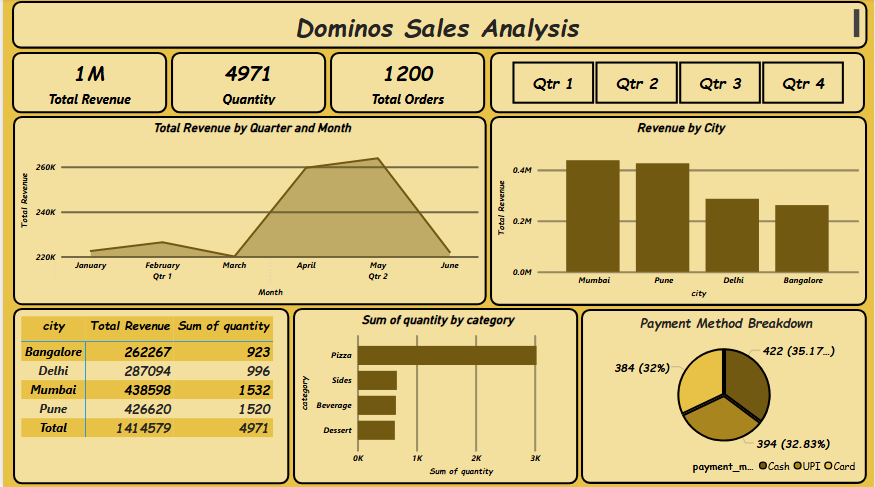

Layout of this report page (visuals, bound fields, positions):
{"tool":"powerbi","page":{"name":"Page 1","canvas":[1280,720],"ordinal":0},"visuals":[{"type":"pieChart","title":"Payment Method Breakdown","fields":{"Category":["Orders.payment_mode"],"Y":["CountNonNull(Orders.customer_id)"]},"box":[849,457,420.2,257.1],"z":0},{"type":"textbox","box":[13,4,1257.2,70.2],"z":1000},{"type":"columnChart","title":"Revenue by City","fields":{"Category":["Stores.city"],"Y":["Order_Details.Total Revenue"]},"box":[715,174,554,279],"z":2000},{"type":"card","fields":{"Values":["Order_Details.Total Revenue"]},"box":[13.2,79.3,227.8,89.6],"z":3000},{"type":"barChart","fields":{"Category":["Products.category"],"Y":["Sum(Order_Details.quantity)"]},"box":[426,455.5,418.8,258.6],"z":4000},{"type":"areaChart","fields":{"Y":["Order_Details.Total Revenue"],"Category":["Orders.order_date.Variation.Date Hierarchy.Quarter","Orders.order_date.Variation.Date Hierarchy.Month"]},"box":[14,173.4,696,277.7],"z":5000},{"type":"pivotTable","fields":{"Values":["Order_Details.Total Revenue","Sum(Order_Details.quantity)"],"Rows":["Stores.city"]},"box":[14.7,455.5,405.6,258.6],"z":6000},{"type":"card","fields":{"Values":["Sum(Order_Details.quantity)"]},"box":[246.9,79.3,227.8,89.6],"z":7000},{"type":"card","fields":{"Values":["CountNonNull(Orders.order_id)"]},"box":[480,79.3,227.8,89.6],"z":8000},{"type":"slicer","fields":{"Values":["Orders.order_date.Variation.Date Hierarchy.Quarter"]},"box":[715.6,79.3,551,89.6],"z":9000}]}

Visuals, with their boxes in screenshot pixels (x1, y1, x2, y2), scaled from the page's 1280x720 canvas onto the 875x487 screenshot:
"Payment Method Breakdown" pieChart: 580:309:868:483
textbox: 9:3:868:50
"Revenue by City" columnChart: 489:118:867:306
card - Order_Details.Total Revenue: 9:54:165:114
barChart - Products.category x Sum(Order_Details.quantity): 291:308:578:483
areaChart - Order_Details.Total Revenue x Orders.order_date.Variation.Date Hierarchy.Quarter: 10:117:485:305
pivotTable - Order_Details.Total Revenue x Sum(Order_Details.quantity): 10:308:287:483
card - Sum(Order_Details.quantity): 169:54:325:114
card - CountNonNull(Orders.order_id): 328:54:484:114
slicer - Orders.order_date.Variation.Date Hierarchy.Quarter: 489:54:866:114
